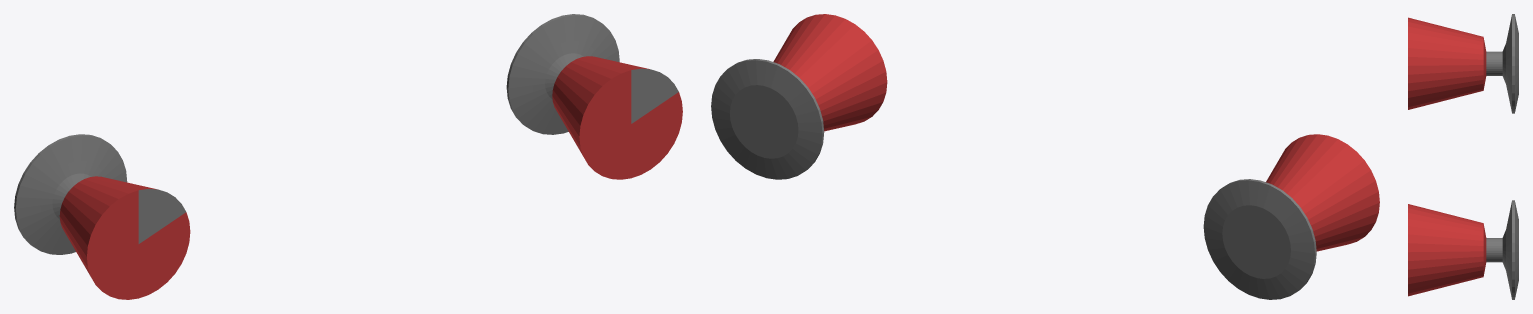
Rendered from buffers-locomotive-steam.dae.
3 views of the same model, side by side, from view 1: azimuth 30°, elevation 25°; view 2: azimuth 150°, elevation 25°; view 3: azimuth 270°, elevation 25° (orthographic). The views are drawn at different scales.
Visible parts, largest first — view 1: Cylinder_020, Cylinder_012; view 2: Cylinder_012, Cylinder_020; view 3: Cylinder_012, Cylinder_020.
Part boxes in pixels (x1,y1,x2,y2): Cylinder_020: (506,14,682,179); Cylinder_012: (14,134,190,299); Cylinder_012: (1203,134,1379,299); Cylinder_020: (711,14,887,179); Cylinder_012: (1408,14,1518,113); Cylinder_020: (1408,200,1518,299).
Bounding box in the file's own units: 1.48 × 0.3023 × 0.2721.
